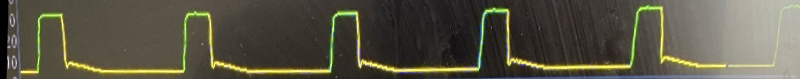normal_pressure: (25, 1, 737, 78)
